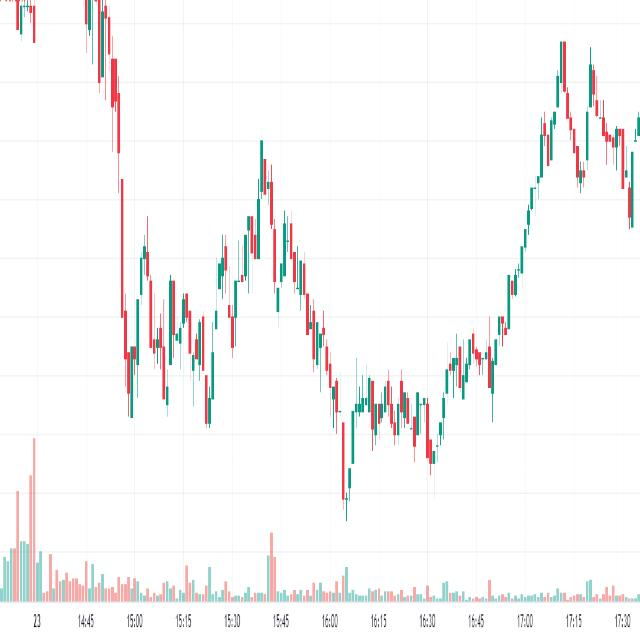Rounding-Bottom: (267, 152, 540, 520), (116, 165, 263, 438)
